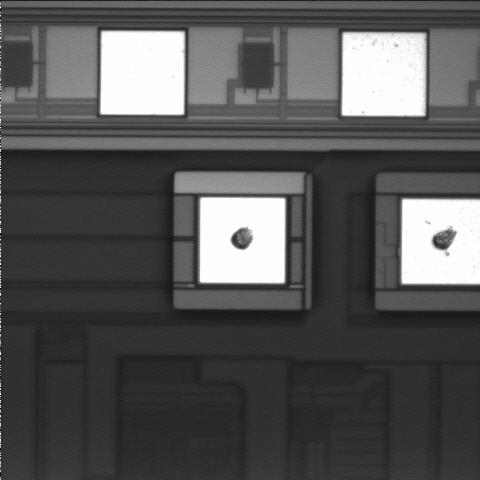pad: (200, 198, 285, 283), (101, 31, 184, 115), (342, 33, 425, 116)
